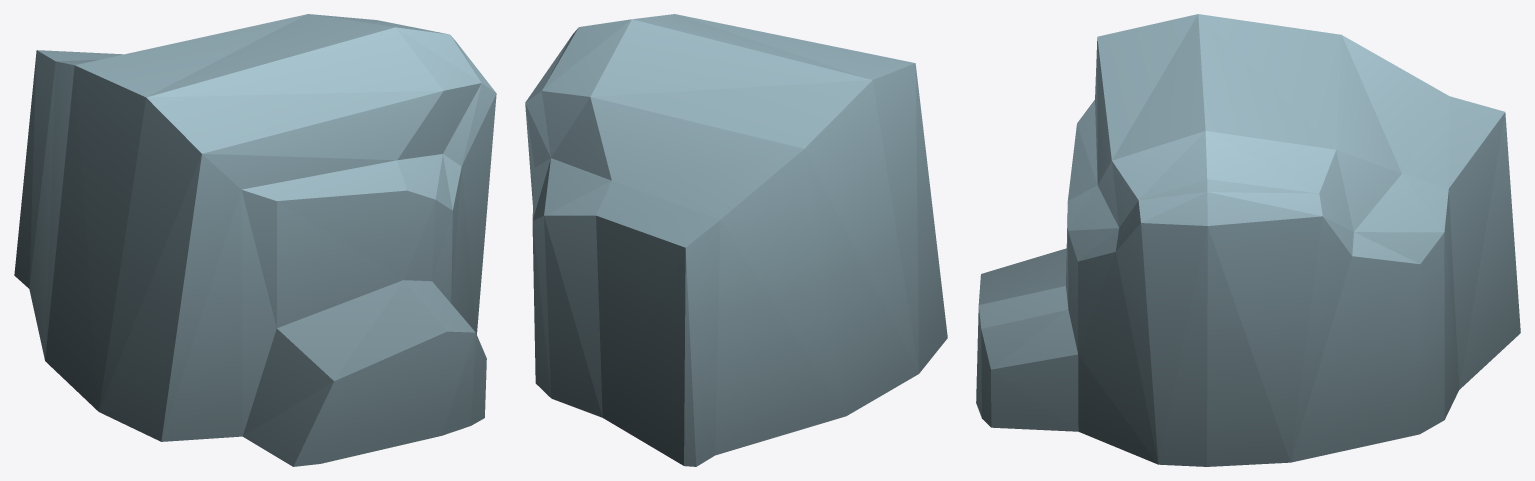
File: stone small gray blue 6.fbx
3 views of the same model, side by side, from view 1: azimuth 30°, elevation 25°; view 2: azimuth 150°, elevation 25°; view 3: azimuth 270°, elevation 25° (orthographic). The views are drawn at different scales.
Parts seen in each view (by area): view 1: stone small gray blue 6; view 2: stone small gray blue 6; view 3: stone small gray blue 6.
Part boxes in pixels (<box>): stone small gray blue 6: <box>14,14,496,466</box>; stone small gray blue 6: <box>525,14,947,466</box>; stone small gray blue 6: <box>976,14,1520,466</box>.
Bounding box in the file's own units: 91.2 × 70.78 × 114.
